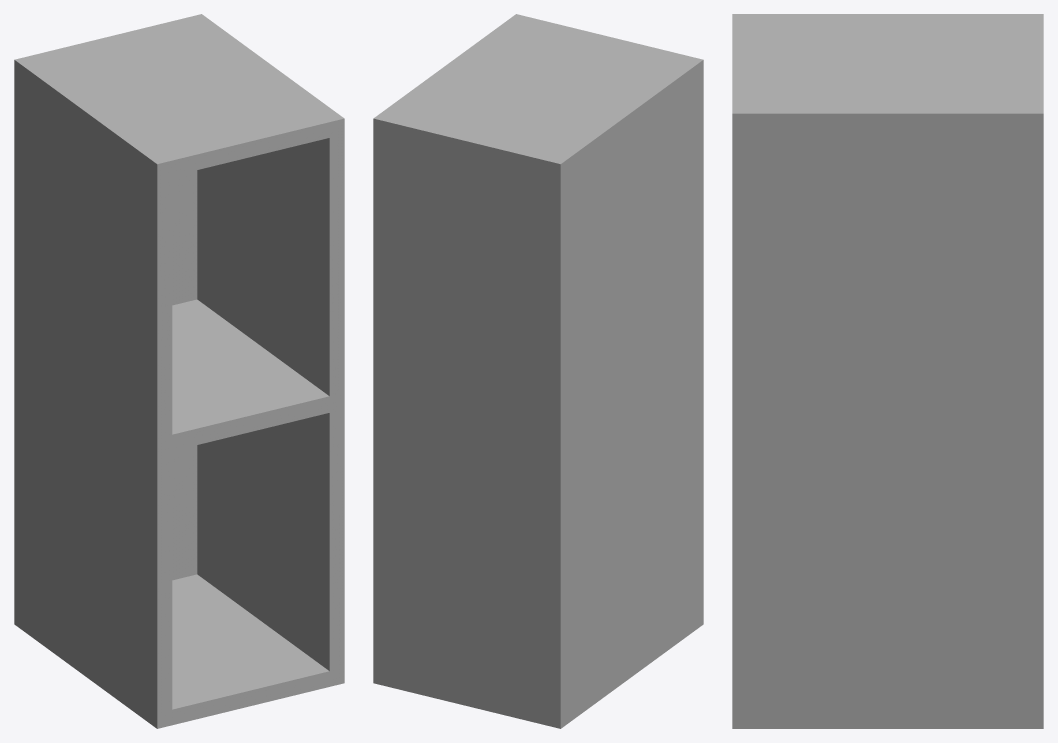
3 views of the same model, side by side, from view 1: azimuth 30°, elevation 25°; view 2: azimuth 150°, elevation 25°; view 3: azimuth 270°, elevation 25° (orthographic). The views are drawn at different scales.
Visible parts, largest first — view 1: Box001; view 2: Box001; view 3: Box001.
Part boxes in pixels (bbox=[...]): Box001: bbox=[14, 14, 344, 728]; Box001: bbox=[373, 14, 703, 728]; Box001: bbox=[732, 14, 1043, 728].
Bounding box in the file's own units: 0.25 × 0.72 × 0.33.
1 material, 1 textured.
